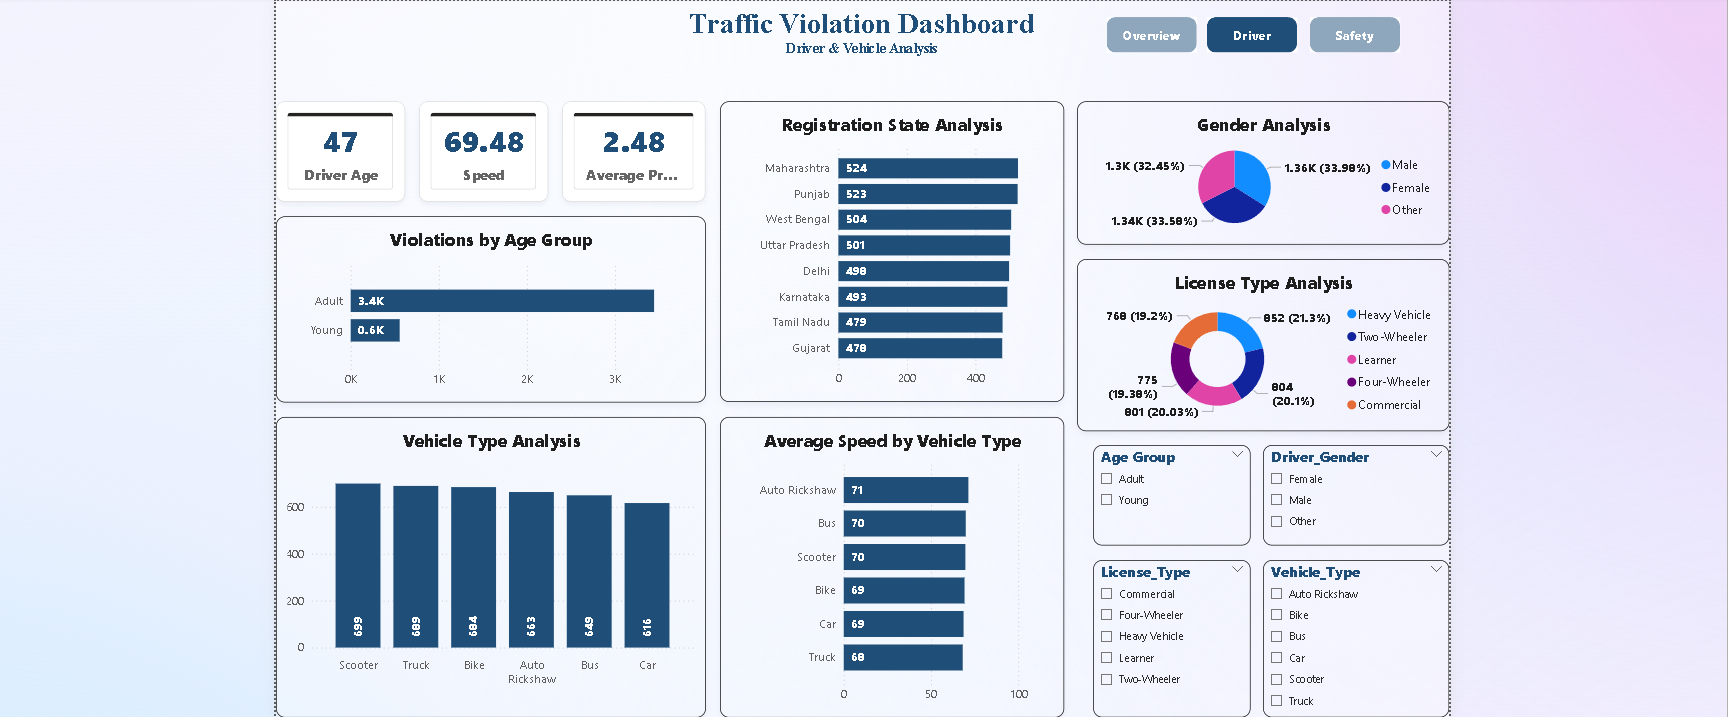

Layout of this report page (visuals, bound fields, positions):
{"tool":"powerbi","page":{"name":"Driver","canvas":[1280,720],"ordinal":1},"visuals":[{"type":"clusteredBarChart","title":"Violations by Age Group","fields":{"Category":["traffic_final.Age Group"],"Y":["CountNonNull(traffic_final.Violation_ID)"]},"box":[0,192,464,192],"z":0},{"type":"pieChart","title":"Gender Analysis","fields":{"Category":["traffic_final.Driver_Gender"],"Y":["CountNonNull(traffic_final.Violation_ID)"]},"box":[896,80,384,160],"z":1000},{"type":"clusteredColumnChart","title":" Vehicle Type Analysis","fields":{"Category":["traffic_final.Vehicle_Type"],"Y":["CountNonNull(traffic_final.Violation_ID)"]},"box":[0,384,464,336],"z":2000},{"type":"clusteredBarChart","title":"Average Speed by Vehicle Type","fields":{"Category":["traffic_final.Vehicle_Type"],"Y":["traffic_final.Average Speed"]},"box":[464,416,432,304],"z":3000},{"type":"donutChart","title":"License Type Analysis","fields":{"Category":["traffic_final.License_Type"],"Y":["CountNonNull(traffic_final.Violation_ID)"]},"box":[893.9,236.6,385.8,212.4],"z":4000},{"type":"clusteredBarChart","title":"Registration State Analysis","fields":{"Category":["traffic_final.Registration_State"],"Y":["CountNonNull(traffic_final.Violation_ID)"]},"box":[464,80,432,336],"z":5000},{"type":"cardVisual","fields":{"Data":["traffic_final.Average Driver Age"]},"box":[0,80,144,112],"z":6000},{"type":"cardVisual","fields":{"Data":["traffic_final.Average Speed"]},"box":[144,80,160,112],"z":7000},{"type":"cardVisual","fields":{"Data":["traffic_final.Average Previous Violations"]},"box":[304,80,160,112],"z":8000},{"type":"slicer","fields":{"Values":["traffic_final.Age Group"]},"box":[893.9,449,172.1,99.5],"z":9000},{"type":"slicer","fields":{"Values":["traffic_final.Driver_Gender"]},"box":[1065.9,449,213.7,96.8],"z":10000},{"type":"slicer","fields":{"Values":["traffic_final.Vehicle_Type"]},"box":[1065.9,545.7,213.7,174.7],"z":11000},{"type":"slicer","fields":{"Values":["traffic_final.License_Type"]},"box":[889.9,545.7,176.1,174.7],"z":12000},{"type":"textbox","box":[0,0,1280,80],"z":13000},{"type":"actionButton","box":[1039.7,17.2,100.7,39.7],"z":14000},{"type":"actionButton","box":[1154.9,17.2,100.7,39.7],"z":15000},{"type":"actionButton","box":[927.1,17.2,100.7,39.7],"z":16000}]}

Visuals, with their boxes on the page's 1280x720 design canvas (x1, y1, x2, y2). These are canvas units, not pixel positions in the 1728x717 screenshot, which may show the page scaled, cropped or inside an application window:
"Violations by Age Group" clusteredBarChart: [0,192,464,384]
"Gender Analysis" pieChart: [896,80,1280,240]
" Vehicle Type Analysis" clusteredColumnChart: [0,384,464,720]
"Average Speed by Vehicle Type" clusteredBarChart: [464,416,896,720]
"License Type Analysis" donutChart: [894,237,1280,449]
"Registration State Analysis" clusteredBarChart: [464,80,896,416]
cardVisual - traffic_final.Average Driver Age: [0,80,144,192]
cardVisual - traffic_final.Average Speed: [144,80,304,192]
cardVisual - traffic_final.Average Previous Violations: [304,80,464,192]
slicer - traffic_final.Age Group: [894,449,1066,548]
slicer - traffic_final.Driver_Gender: [1066,449,1280,546]
slicer - traffic_final.Vehicle_Type: [1066,546,1280,720]
slicer - traffic_final.License_Type: [890,546,1066,720]
textbox: [0,0,1280,80]
actionButton: [1040,17,1140,57]
actionButton: [1155,17,1256,57]
actionButton: [927,17,1028,57]
